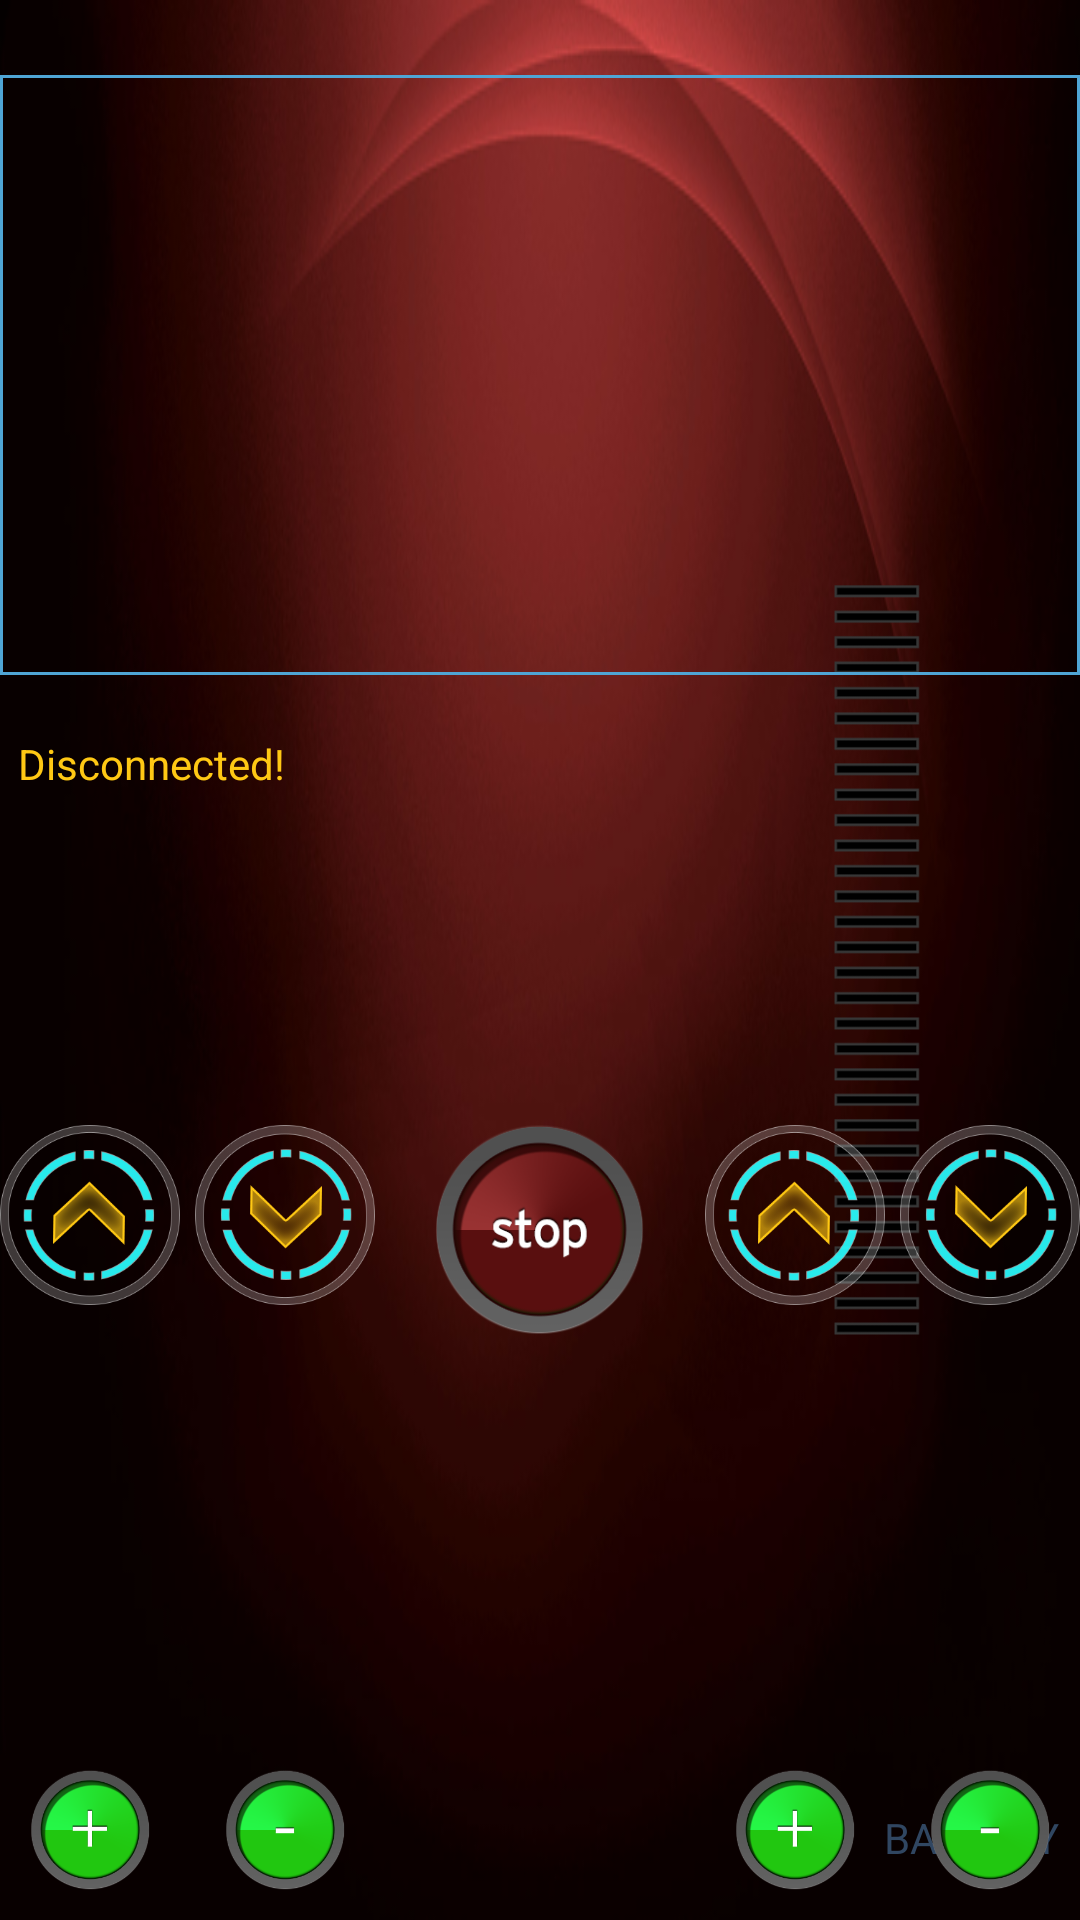

Screen size 1080*1920. Icon name, then its box in pixels as [x1, y1, x2, y2]:
minus: [226, 1771, 344, 1889], [930, 1771, 1050, 1889]
plus: [31, 1771, 149, 1889], [736, 1771, 854, 1889]
